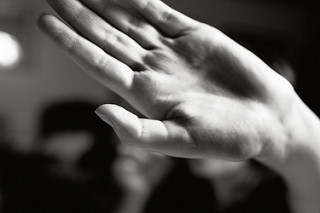palm: (147, 30, 276, 148)
